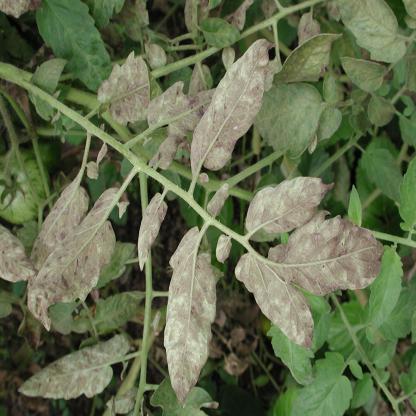Tomato mold leaf: (35, 4, 110, 86), (255, 87, 335, 160), (337, 1, 404, 63), (339, 54, 398, 108)
